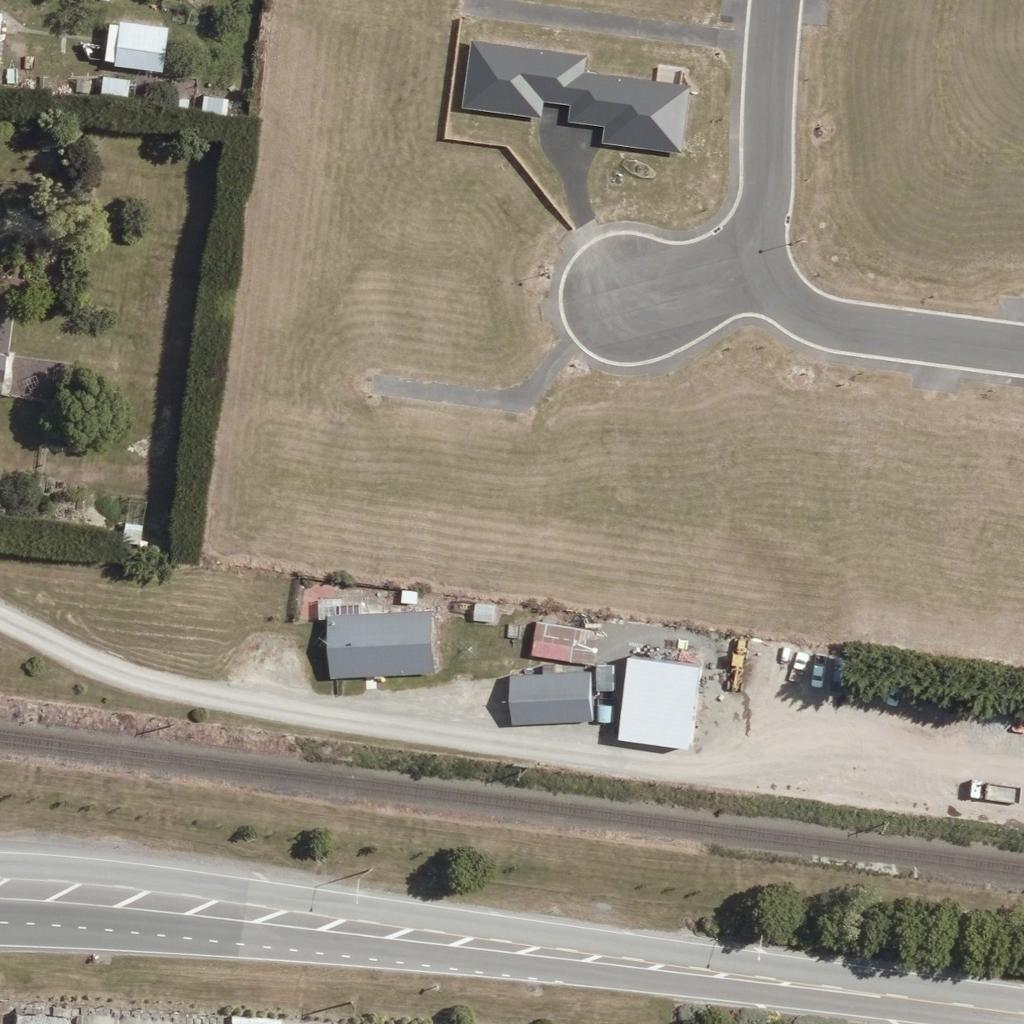car: (780, 646, 814, 680), (799, 654, 833, 688), (819, 656, 853, 690), (876, 673, 910, 707)
